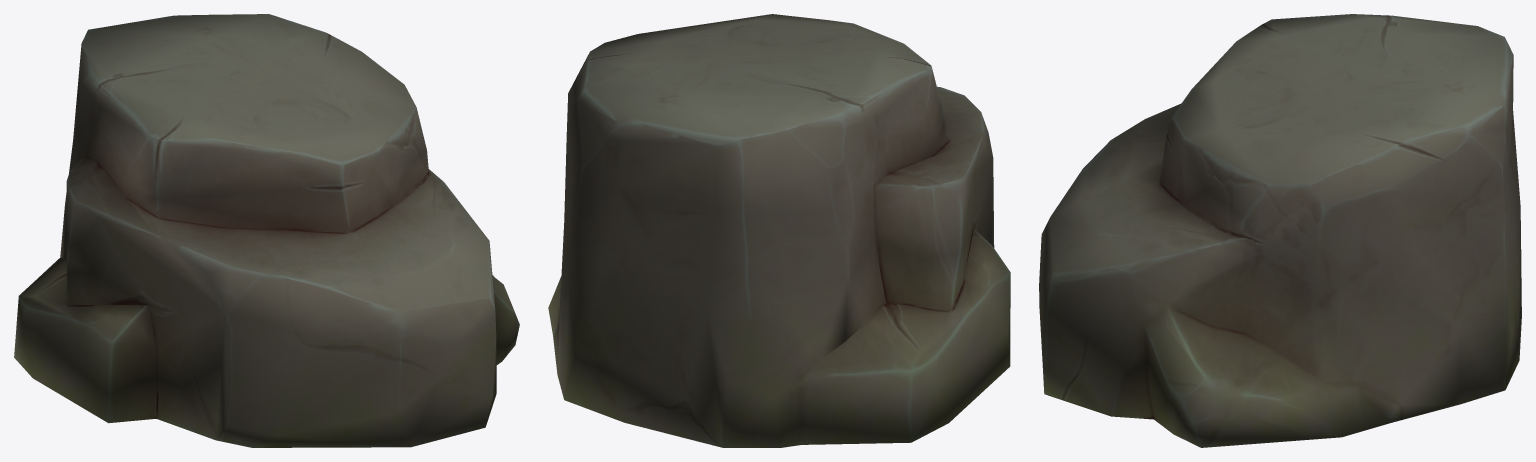
File: ROK0110024.fbx
3 renders of one model, left to right at view 1: azimuth 30°, elevation 25°; view 2: azimuth 150°, elevation 25°; view 3: azimuth 270°, elevation 25°, orthographic. The views are drawn at different scales.
Parts seen in each view (by area): view 1: smROK0110024; view 2: smROK0110024; view 3: smROK0110024.
Part boxes in pixels (<box>): smROK0110024: <box>14,14,519,447</box>; smROK0110024: <box>548,14,1010,447</box>; smROK0110024: <box>1039,14,1521,447</box>.
Bounding box in the file's own units: 241 × 159 × 251.
1 material, 1 textured.
